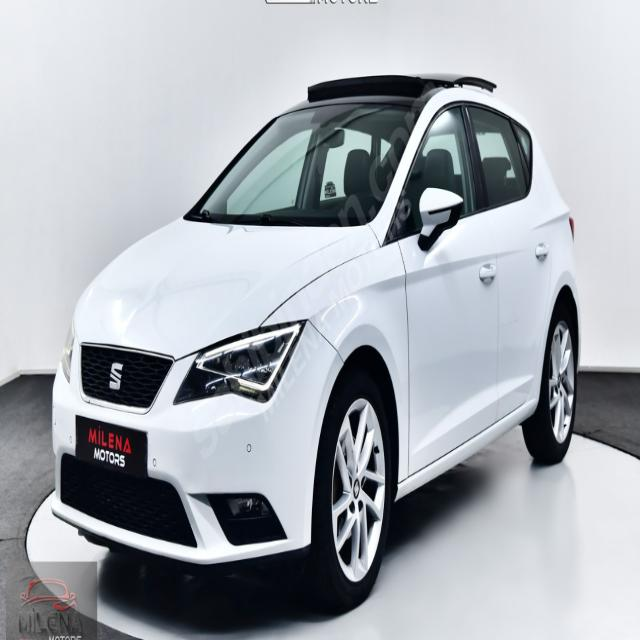seat: (108, 354, 126, 394)
